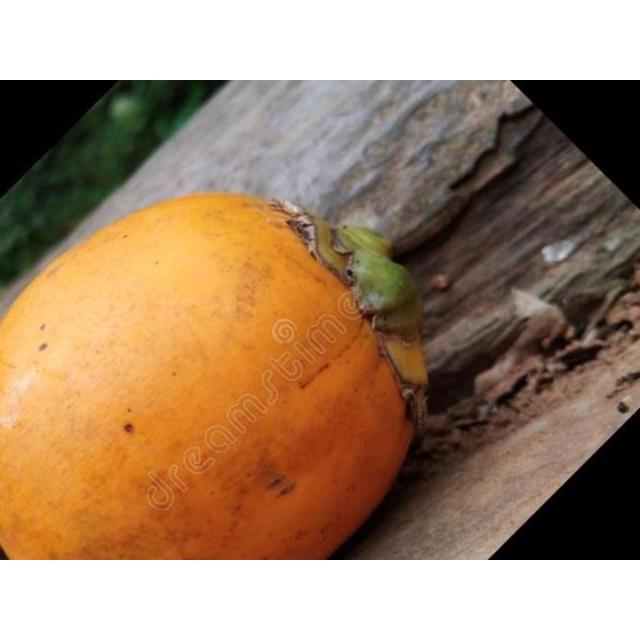good: (1, 192, 426, 559)
